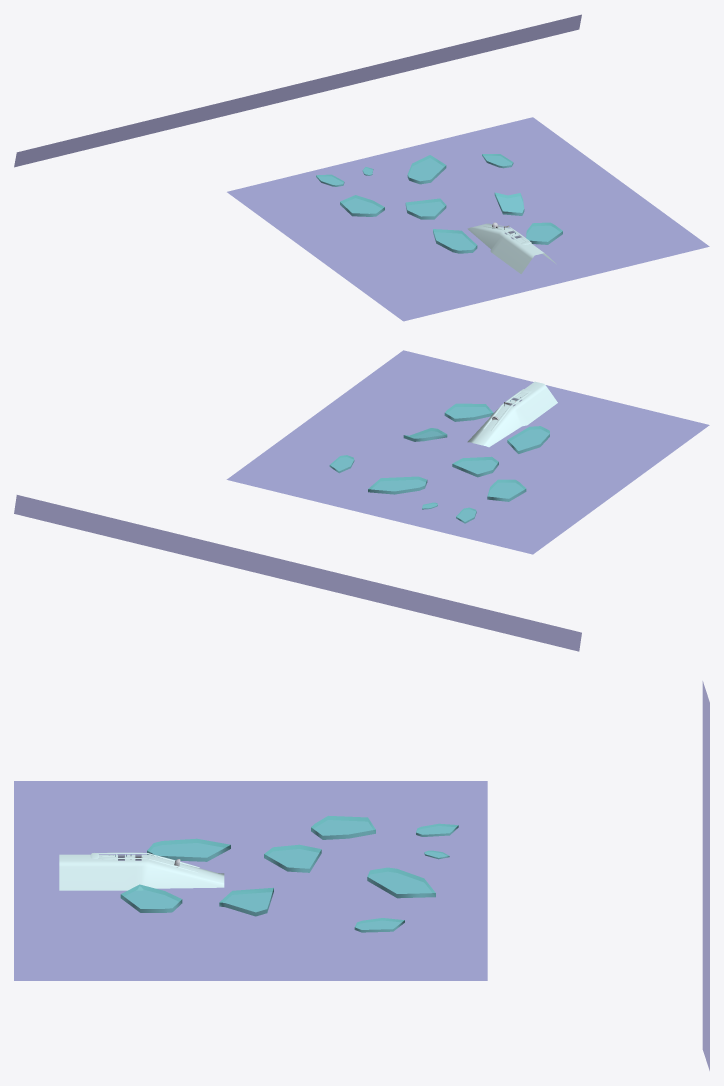
The model's file is world.glb.
The picture shows the model from 3 angles, top to bottom: view 1: azimuth 30°, elevation 25°; view 2: azimuth 150°, elevation 25°; view 3: azimuth 270°, elevation 25°; orthographic projection. The views are drawn at different scales.
Visible parts, largest first — view 1: Plane.001, nowater, Sol, Cube, Cube.005, Cube.004, Cube.003, Cube.001, Cube.002; view 2: Plane.001, nowater, Sol, Cube.005, Cube, Cube.001, Cube.003, Cube.004; view 3: Plane.001, Sol, nowater, Cube.005, Cube, Cube.004, Cube.001, Cube.003, Cube.002.
Boxes of the visible parts, box(x1,y1,x2,y2) form: Plane.001: box(227, 117, 709, 321); nowater: box(14, 14, 581, 167); Sol: box(467, 223, 556, 273); Cube: box(433, 229, 477, 253); Cube.005: box(407, 155, 446, 184); Cube.004: box(340, 195, 384, 216); Cube.003: box(405, 198, 446, 219); Cube.001: box(526, 222, 562, 244); Cube.002: box(494, 192, 524, 215); Plane.001: box(226, 350, 709, 554); nowater: box(14, 495, 581, 651); Sol: box(467, 381, 557, 447); Cube.005: box(368, 476, 427, 494); Cube: box(507, 426, 549, 453); Cube.001: box(444, 403, 493, 421); Cube.003: box(452, 456, 498, 477); Cube.004: box(487, 479, 526, 501); Plane.001: box(14, 781, 487, 980); Sol: box(59, 854, 224, 890); nowater: box(702, 681, 709, 1070); Cube.005: box(367, 867, 435, 898); Cube: box(147, 838, 230, 861); Cube.004: box(311, 815, 375, 839); Cube.001: box(120, 884, 182, 912); Cube.003: box(264, 844, 321, 872); Cube.002: box(219, 887, 273, 916).
Size of what is drawn, in the model's own units: 1840 by 81.54 by 1466.
Materials: 28 (5 with a texture image).
